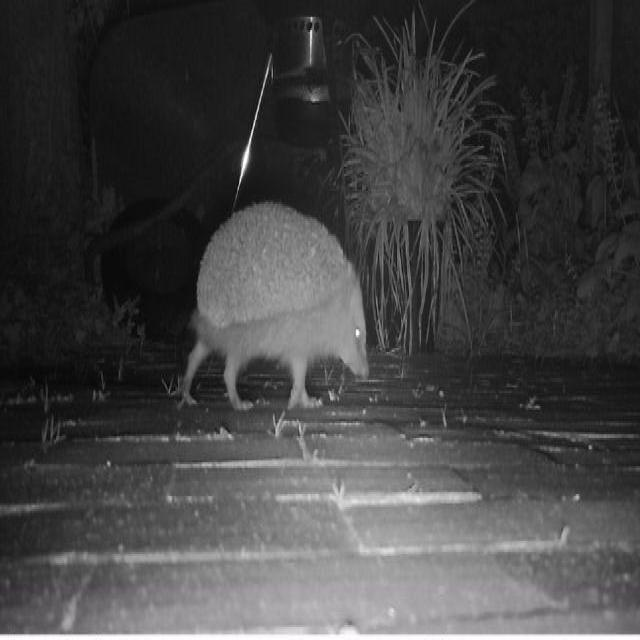Hedgehog: (173, 197, 375, 423)
